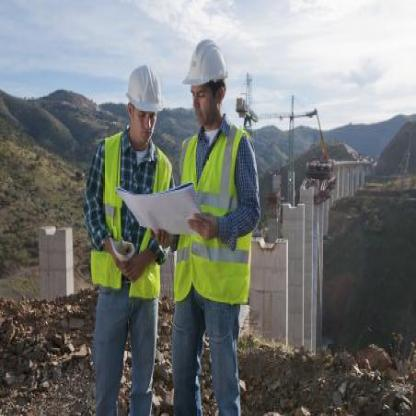helmet: (185, 36, 234, 135), (125, 61, 164, 151)
